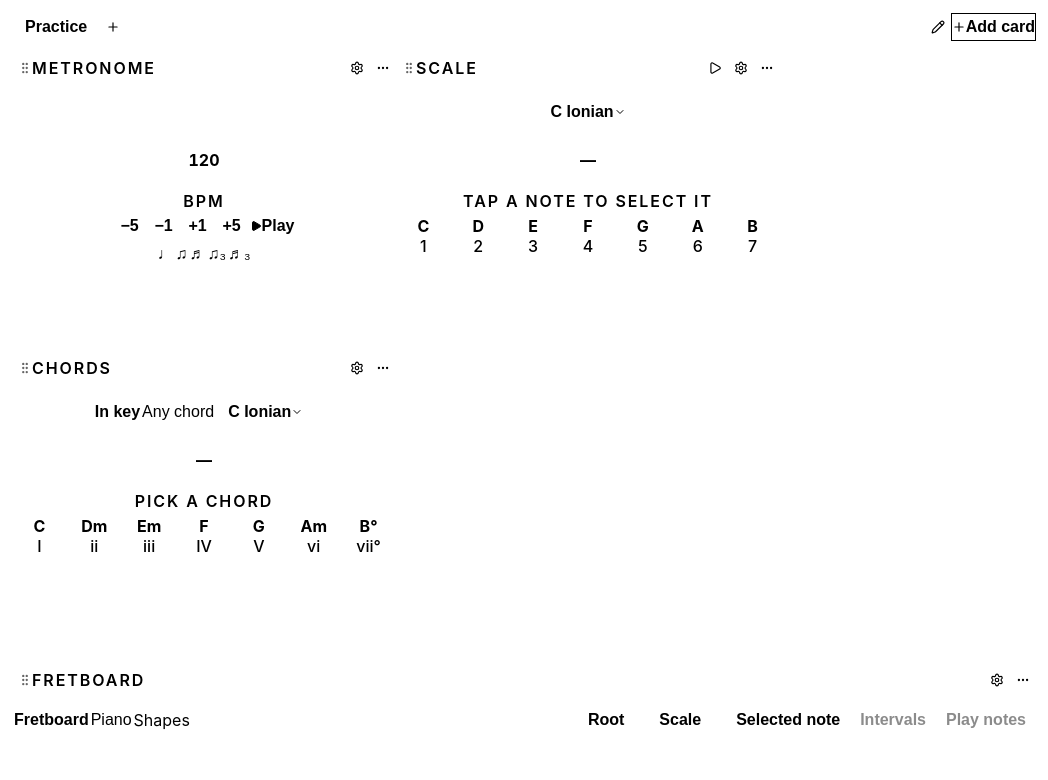
Scenario: the workspace toolbar has no rename / duplicate / reset buttons (double-click a tab to rename)
Double-click the tab "Practice": (56, 27) [12,12,100,42]
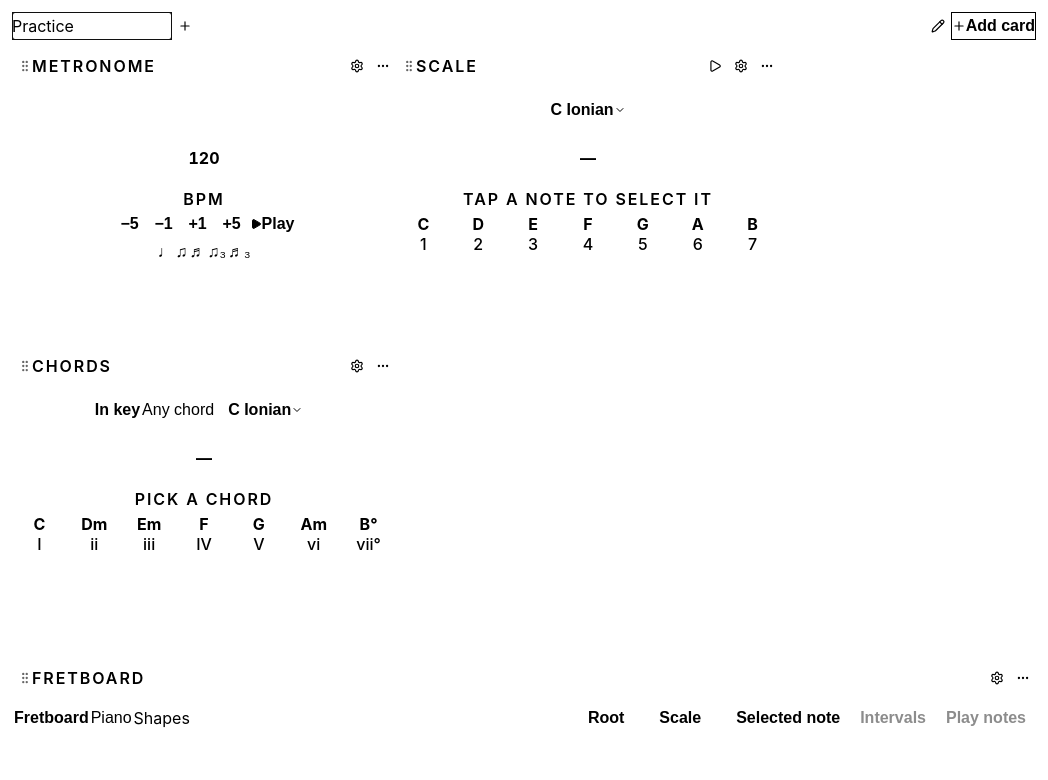
Now the field named "Workspace name" is shown, box [12,12,172,40]
